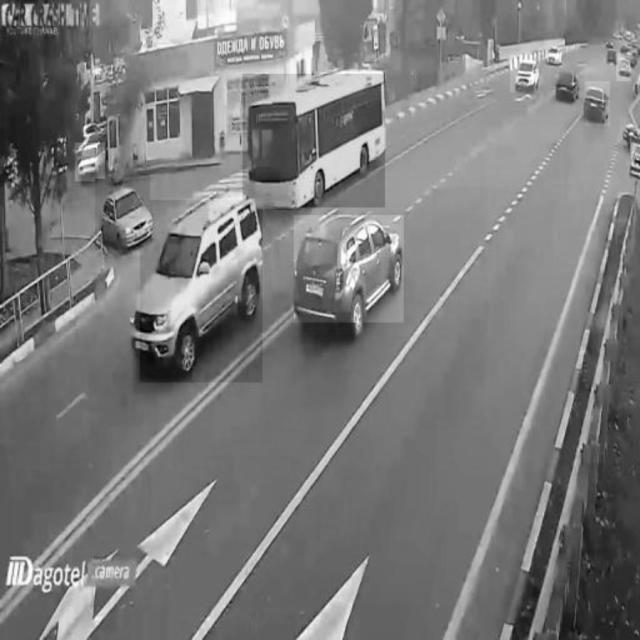vehicle: (139, 201, 263, 383), (243, 74, 385, 208), (294, 215, 404, 323), (95, 179, 150, 250), (552, 66, 584, 104), (75, 143, 105, 181), (585, 82, 610, 127), (511, 56, 541, 93), (545, 39, 561, 67), (616, 53, 631, 81)
